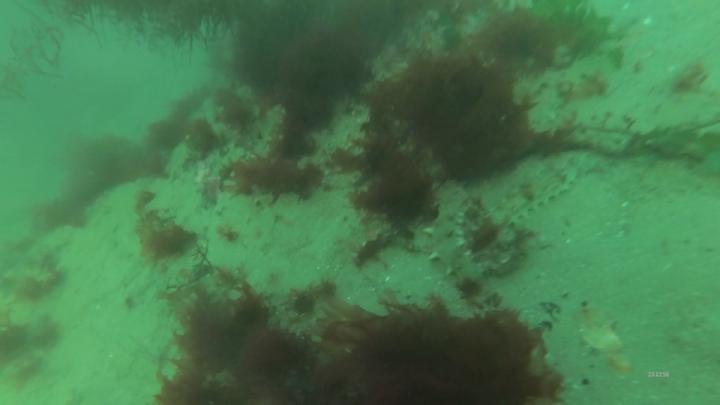holothurian: (483, 166, 577, 227), (452, 198, 523, 278)
waterweeds: (217, 2, 610, 225), (163, 266, 569, 405)
